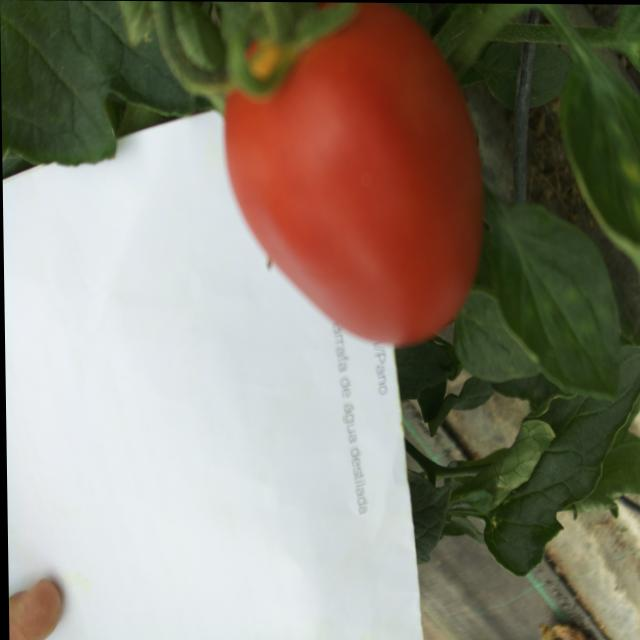kirmizi: (216, 2, 500, 355)
